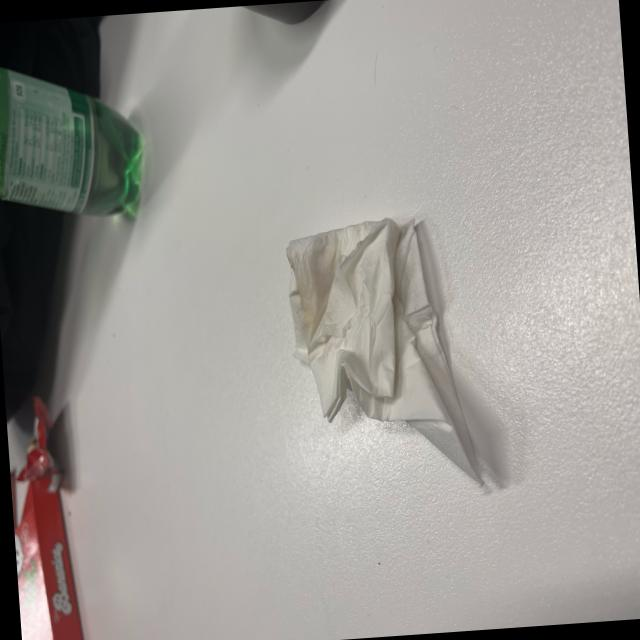organic waste: (282, 211, 489, 508)
